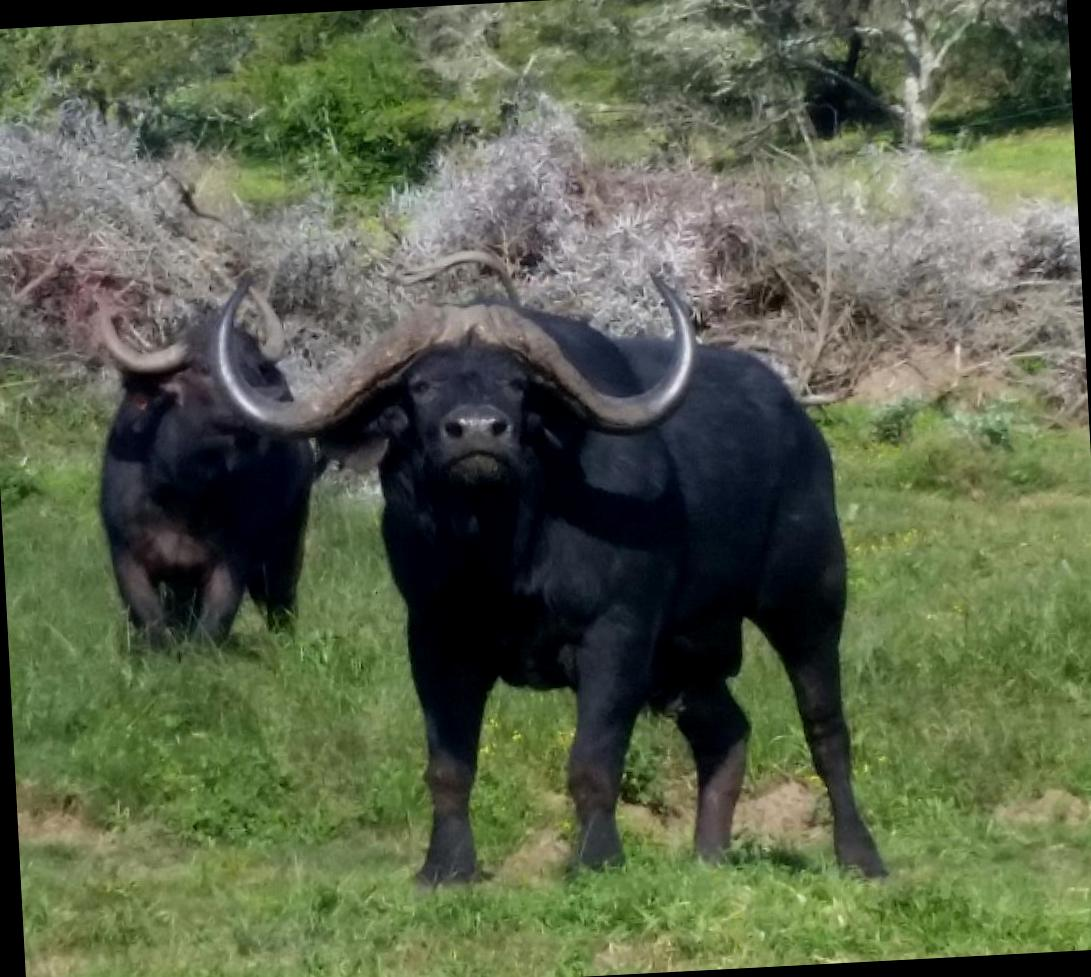Buffalo: (79, 198, 990, 977)
